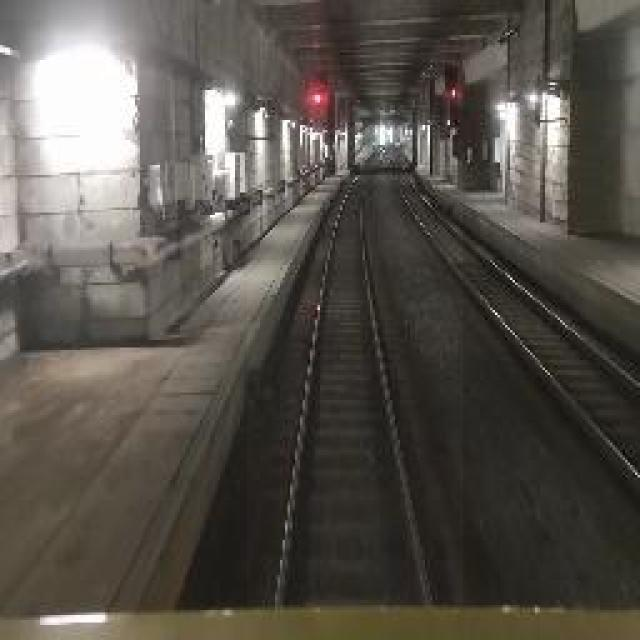rail: (248, 142, 464, 609)
